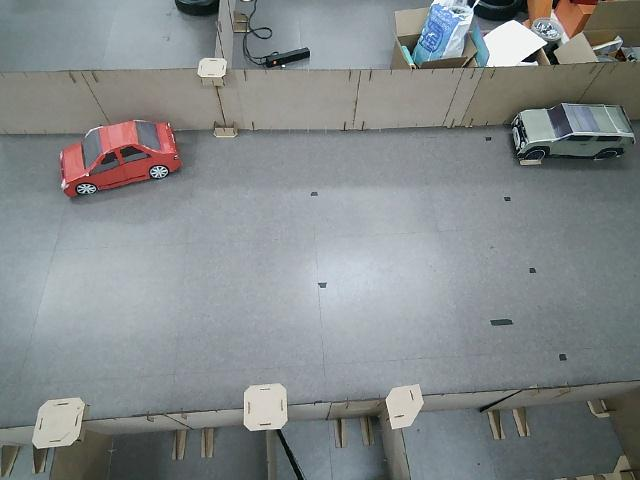car: (51, 112, 189, 201), (503, 93, 640, 171)
